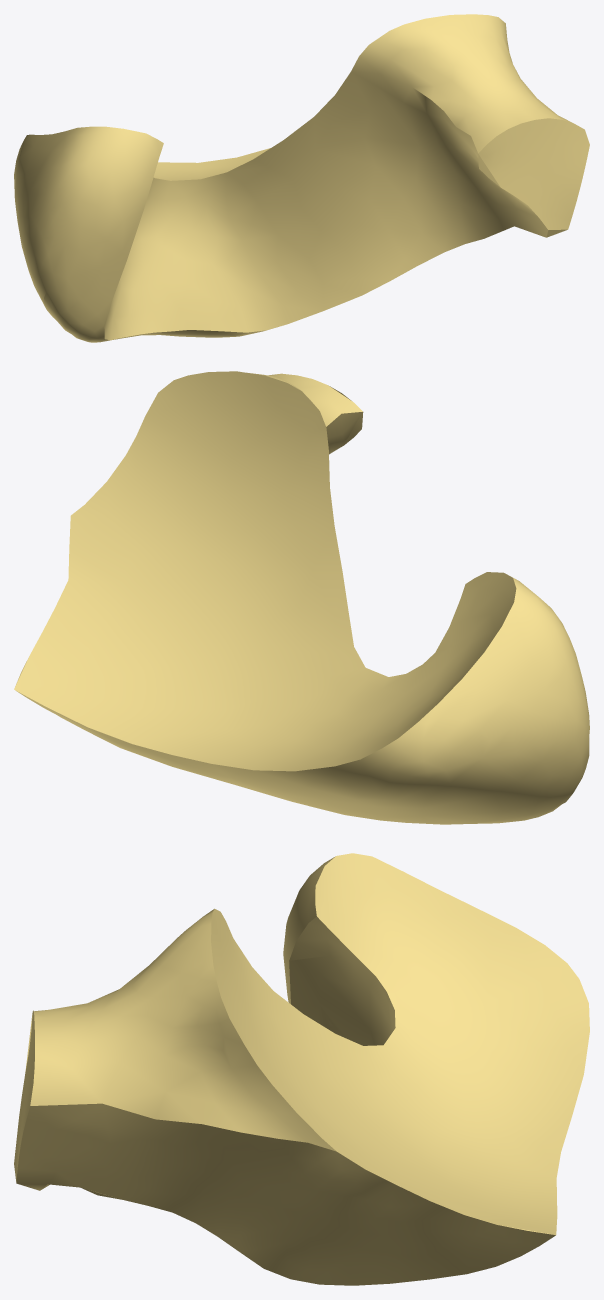
Rendered from fma73031_mm2798m.glb.
3 views of the same model, one above another, from view 1: azimuth 30°, elevation 25°; view 2: azimuth 150°, elevation 25°; view 3: azimuth 270°, elevation 25° (orthographic). The views are drawn at different scales.
Parts seen in each view (by area): view 1: FMA73031_MM2798M; view 2: FMA73031_MM2798M; view 3: FMA73031_MM2798M.
Boxes of the visible parts, x1,y1,x2,y2 form: FMA73031_MM2798M: (14,14,589,342); FMA73031_MM2798M: (14,371,589,824); FMA73031_MM2798M: (14,853,589,1285).
Bounding box in the file's own units: 0.00814 × 0.0052 × 0.00691.
